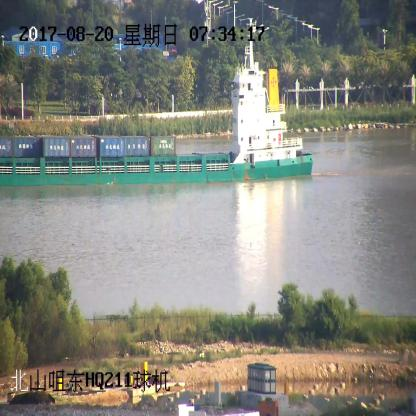Bulk Carrier: (0, 42, 313, 186)
